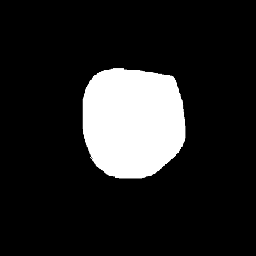mass: (82, 67, 181, 179)
